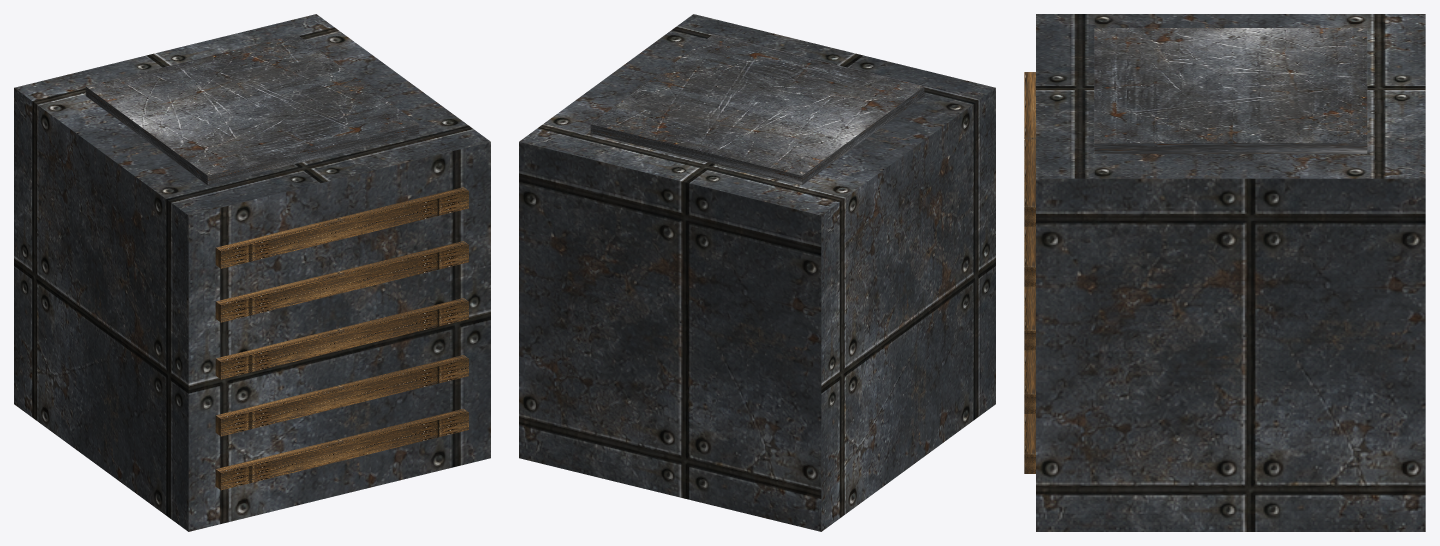
The model's file is vent.obj.
3 views of the same model, side by side, from view 1: azimuth 30°, elevation 25°; view 2: azimuth 150°, elevation 25°; view 3: azimuth 270°, elevation 25° (orthographic). The views are drawn at different scales.
Visible parts, largest first — view 1: vent; view 2: vent; view 3: vent.
Part boxes in pixels (left/top/right/bottom): vent: left=14, top=14, right=490, bottom=531; vent: left=519, top=14, right=995, bottom=531; vent: left=1024, top=14, right=1425, bottom=531.
Size of the model in its own units: 1 by 1.03 by 1.03.
Materials: 1 (1 with a texture image).
